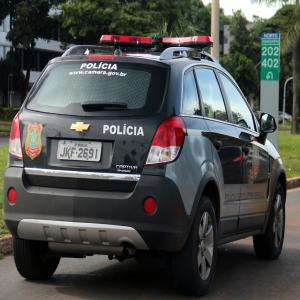Vehicle-registration-plate: (49, 135, 110, 177)
